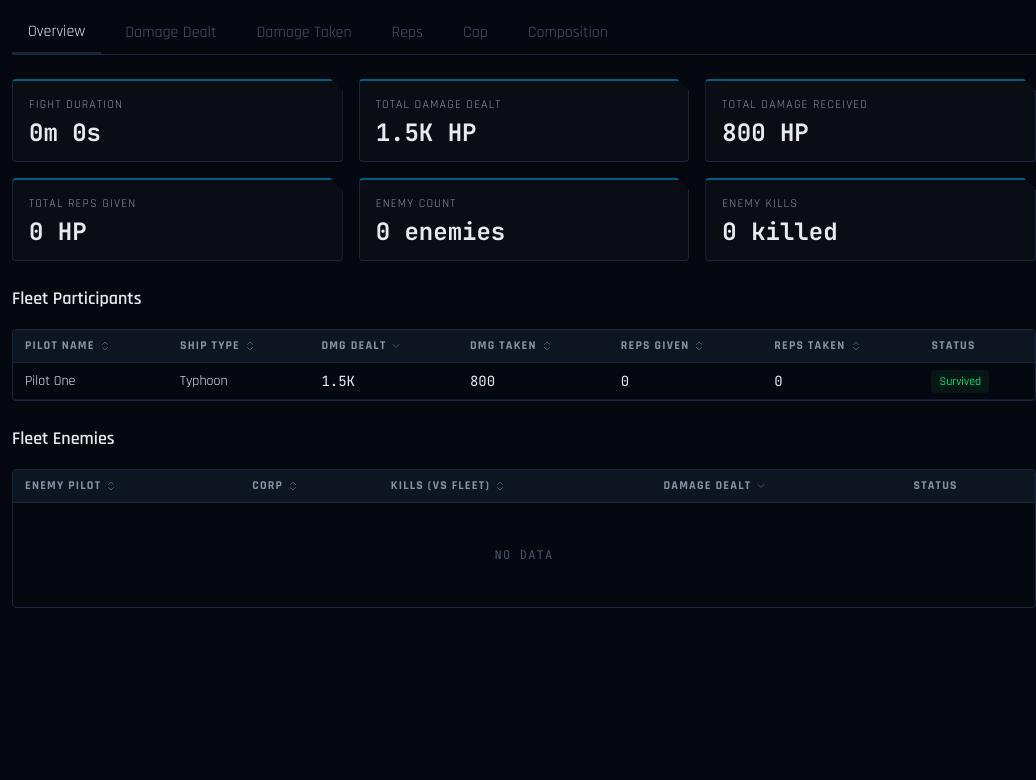
Test: FleetAnalysisTabs › switches tab content on click
Expected: the heading "Fleet Participants" is shown, [12,287,142,310]
Click Damage Dealt
Click the button "Damage Dealt". click: [171, 33]
box: [109,12,232,54]
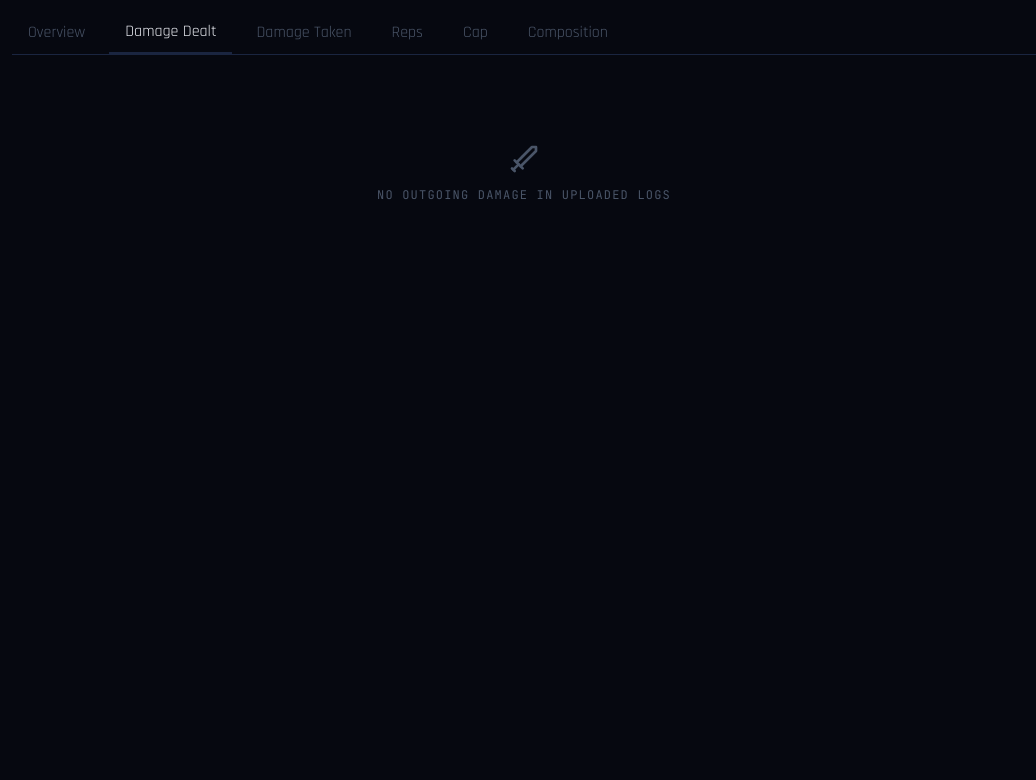
Now the text "No outgoing damage in uploaded logs" is shown, box [377,187,671,203]
